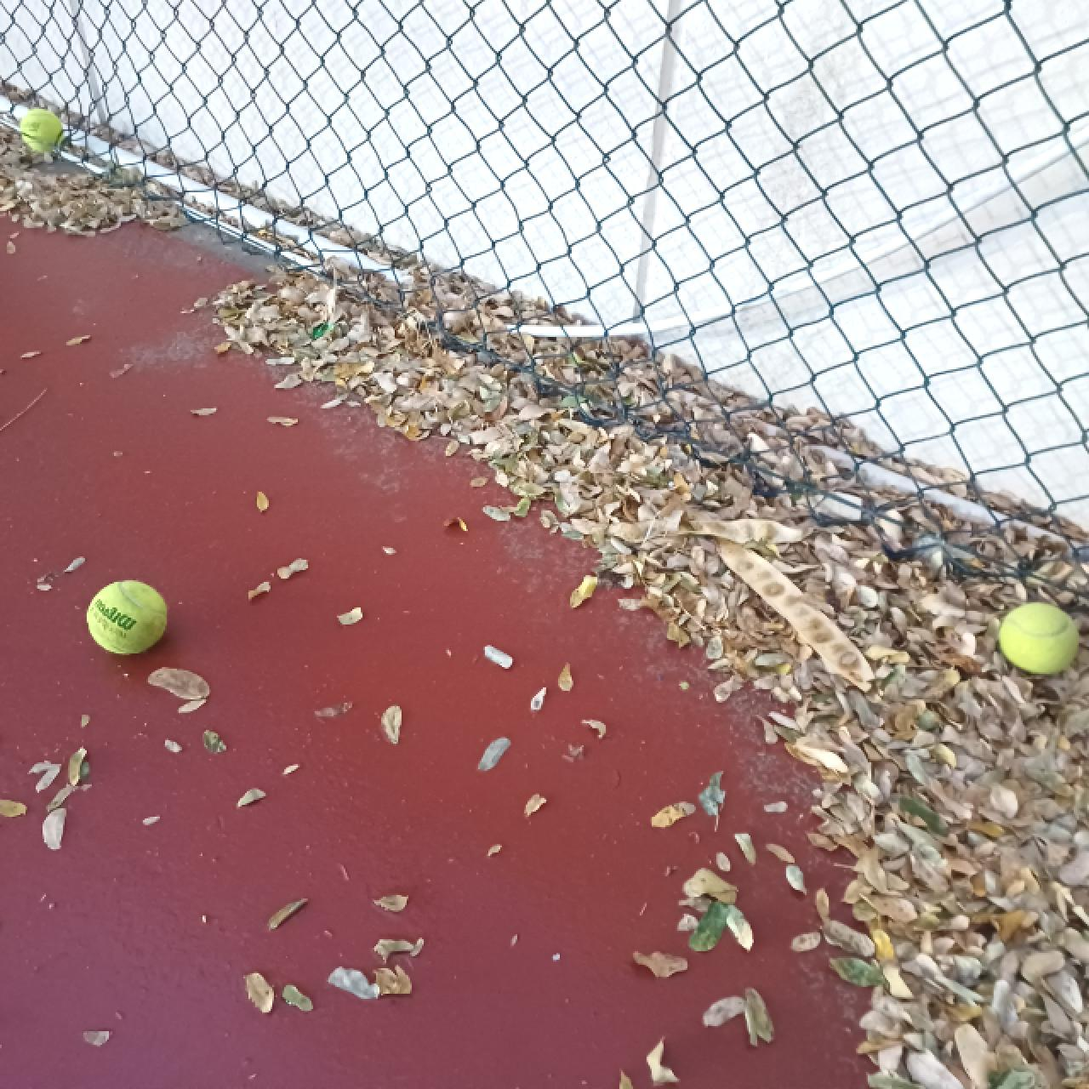tennis-ball: (85, 577, 170, 657), (998, 602, 1076, 676), (20, 108, 64, 154)
